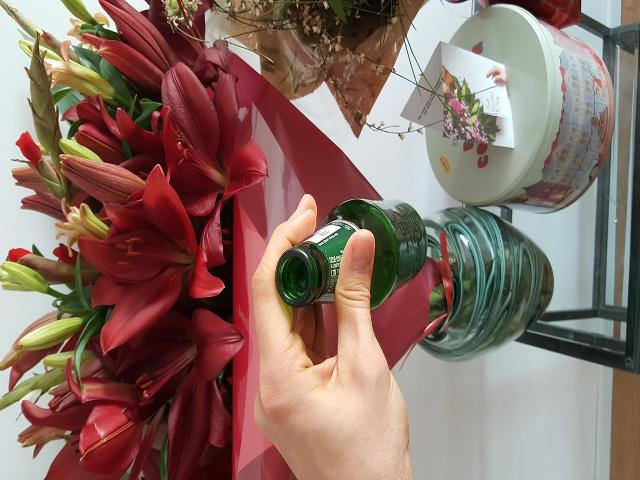beer: (275, 199, 427, 311)
